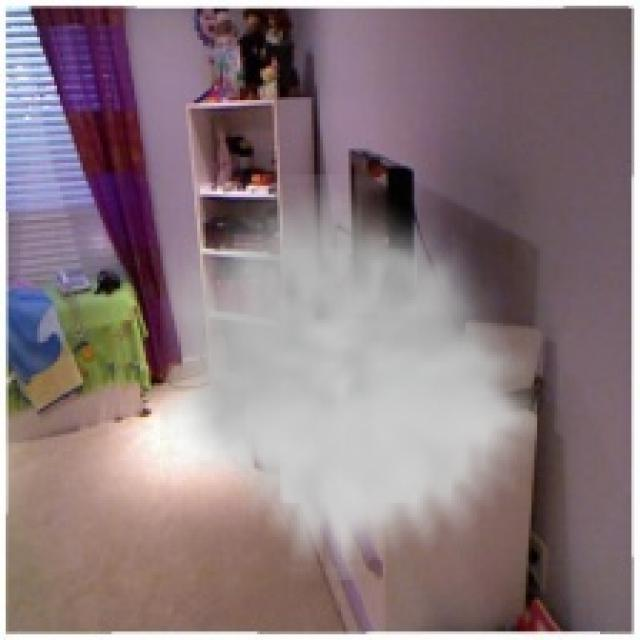Smoke: (160, 175, 537, 580)
